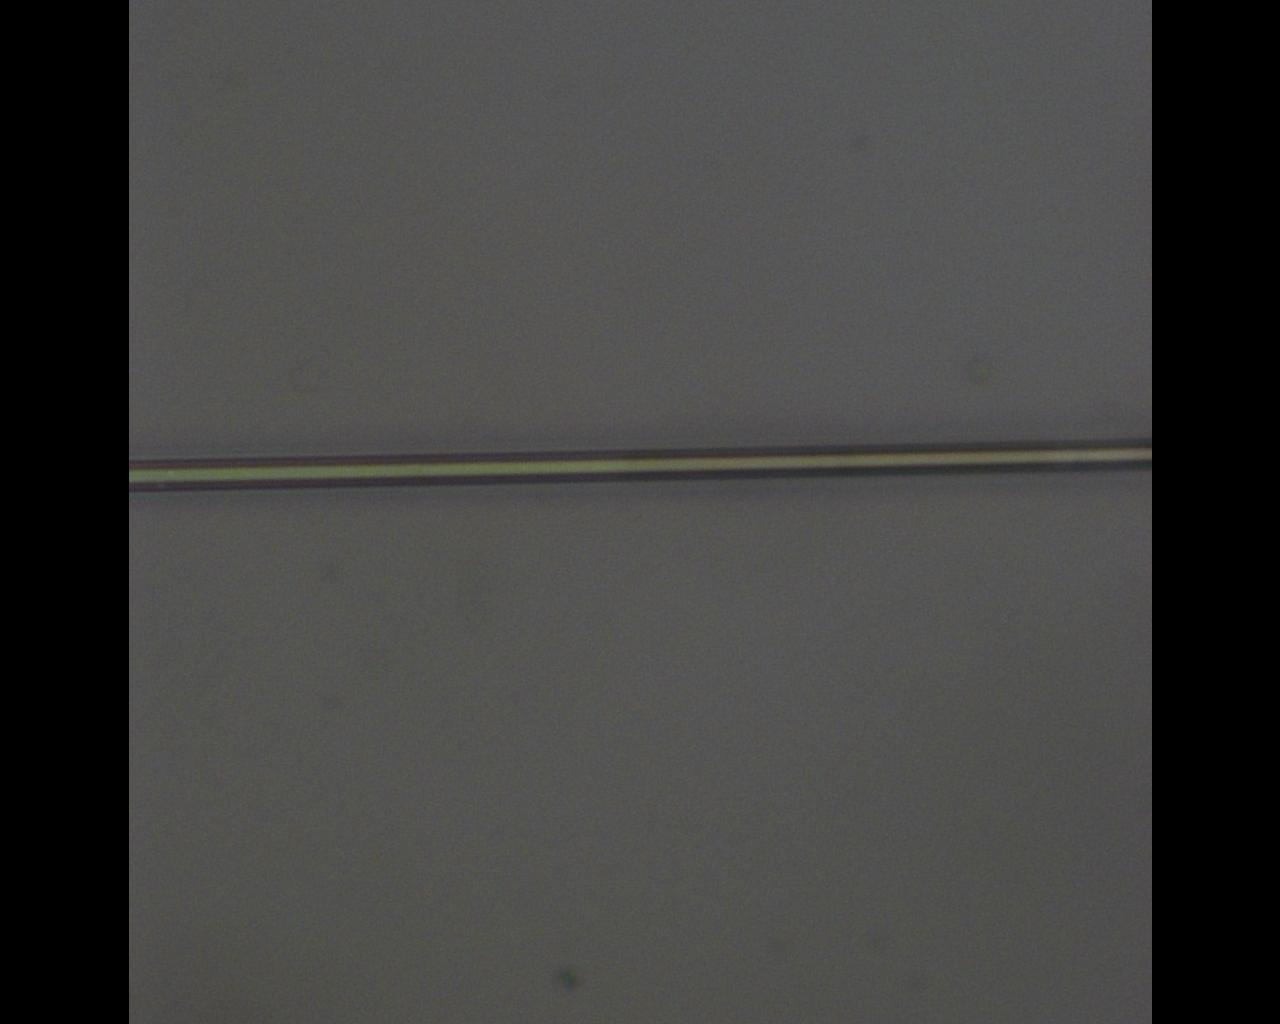fiber: (128, 436, 1152, 493)
